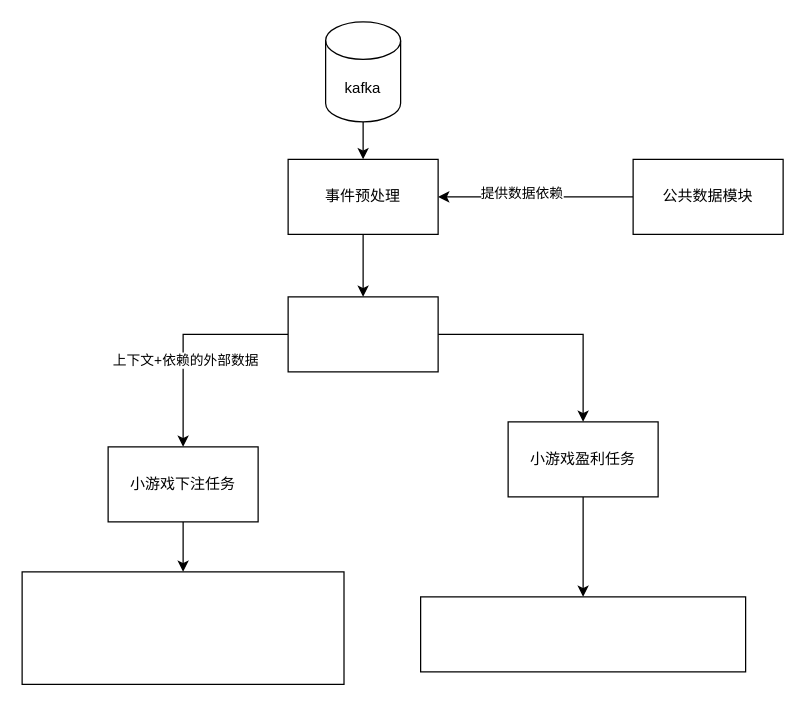
Image size: 805x706. Some labels were removed from this diagram. Here are the shapes that lost their labels. From the top down, the centre of each, then its label:
At pixel 362 334: "规则引擎".
At pixel 182 627: "1.累计天下注额 2.首次天下注额>=完成阈值发送任务完成消息".
At pixel 582 634: "1.累计天盈利额 2.首次天下注额>=完成阈值发送任务完成消息".
